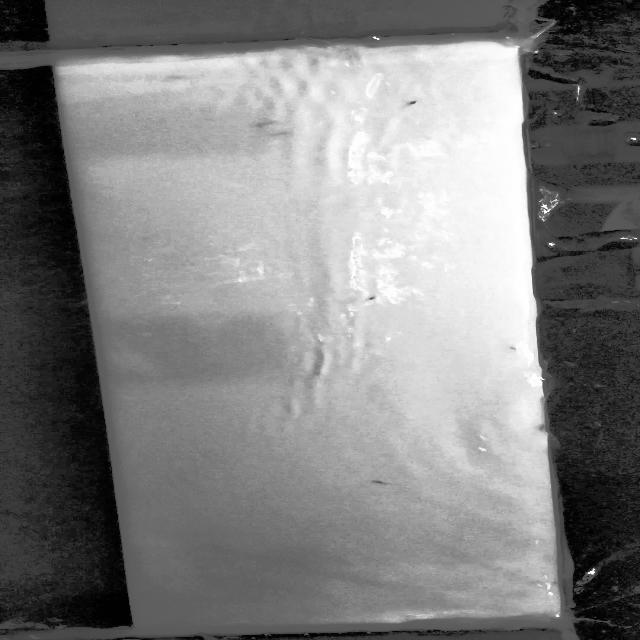shrimp: (360, 291, 386, 305), (363, 477, 396, 488), (406, 97, 426, 112), (503, 346, 526, 357)
